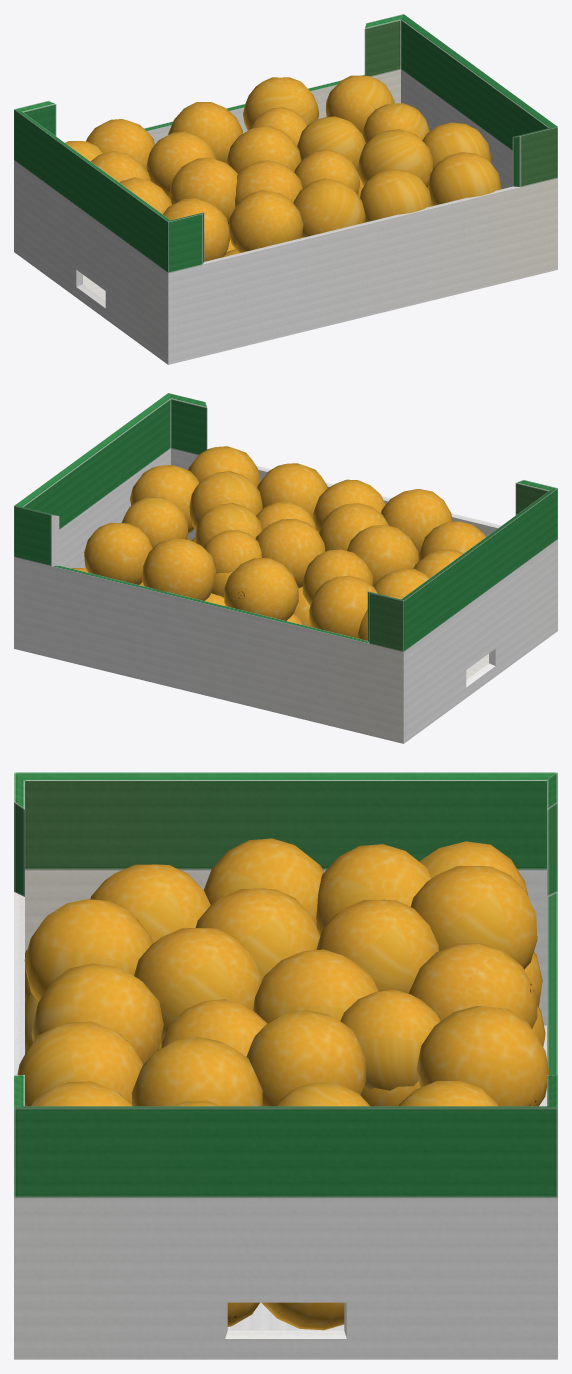
File: fruit_box_-_orange.glb
3 renders of one model, top to bottom at view 1: azimuth 30°, elevation 25°; view 2: azimuth 150°, elevation 25°; view 3: azimuth 270°, elevation 25°, orthographic. The views are drawn at different scales.
Visible parts, largest first — view 1: pCube284; view 2: pCube284; view 3: pCube284.
Part boxes in pixels (x1,y1,x2,y2): pCube284: (14,14,557,364); pCube284: (14,393,557,743); pCube284: (14,772,557,1359).
Bounding box in the file's own units: 0.4685 × 0.1642 × 0.3211.
2 materials, 2 textured.
